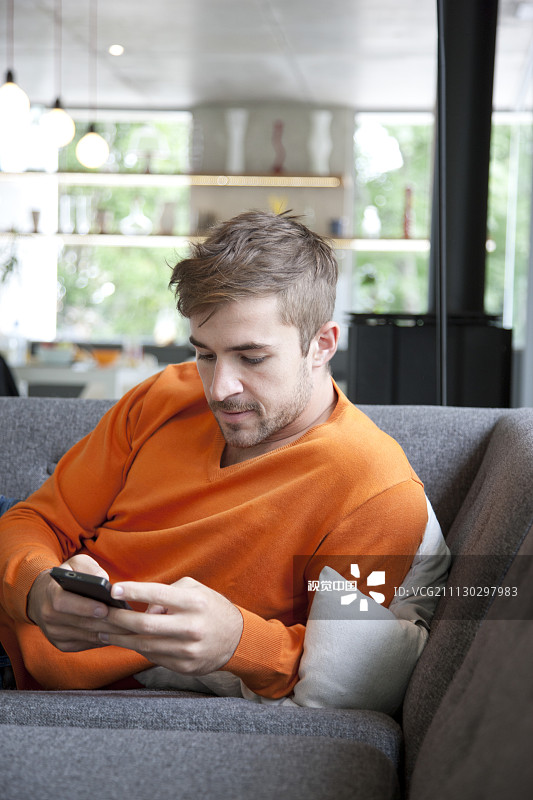reading: (8, 549, 253, 693)
